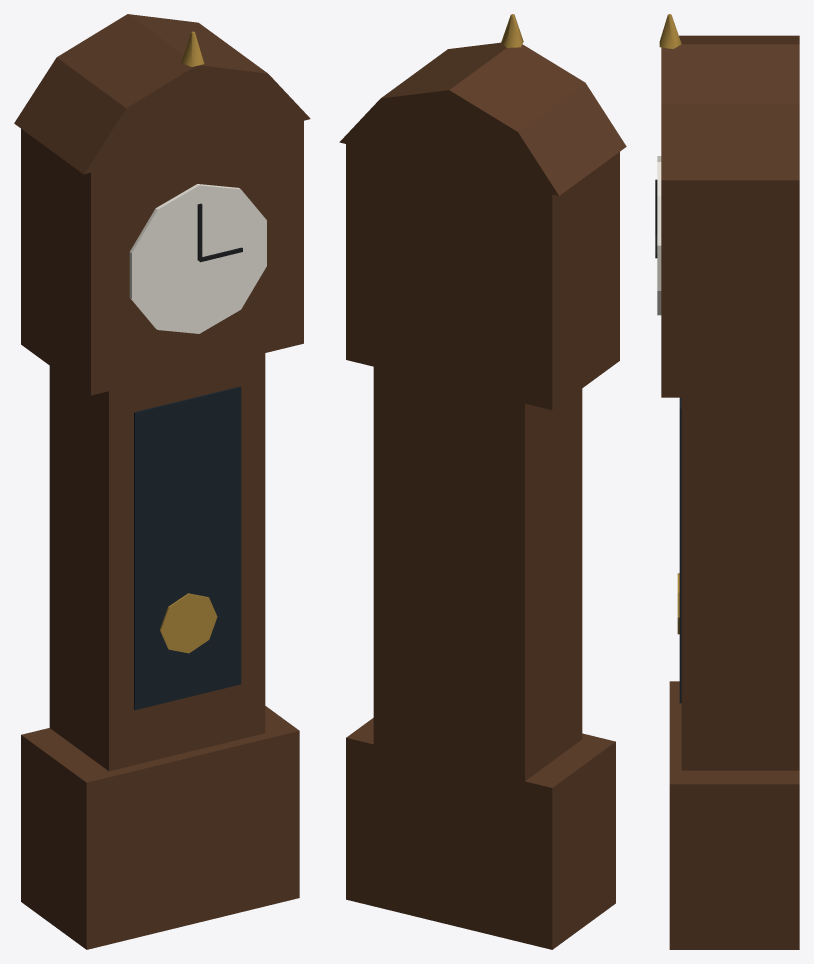
File: grandfather_clock.glb
The picture shows the model from 3 angles, left to right: view 1: azimuth 30°, elevation 25°; view 2: azimuth 150°, elevation 25°; view 3: azimuth 270°, elevation 25°; orthographic projection. The views are drawn at different scales.
Parts seen in each view (by area): view 1: grandfather_clock; view 2: grandfather_clock; view 3: grandfather_clock.
Boxes of the visible parts, x1,y1,x2,y2 form: grandfather_clock: [14, 14, 310, 949]; grandfather_clock: [339, 14, 626, 949]; grandfather_clock: [655, 14, 799, 949].
Bounding box in the file's own units: 0.64 × 2.4 × 0.355.
1 material, 1 textured.
